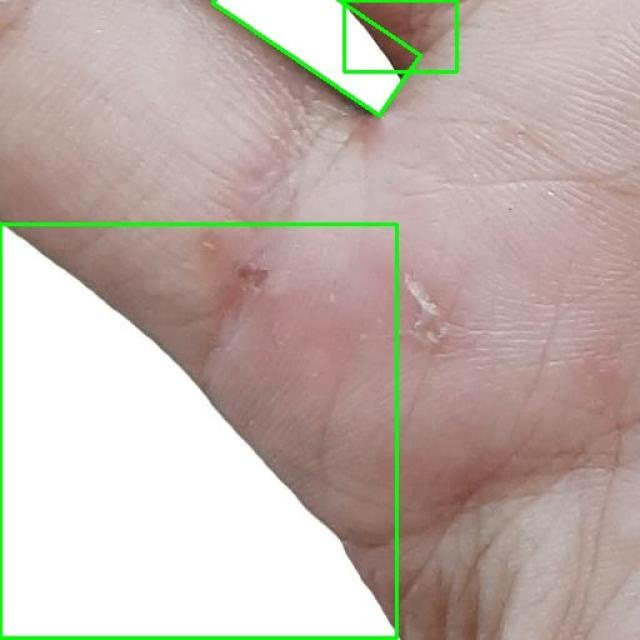Scabies: (0, 225, 398, 639), (213, 0, 421, 116), (344, 0, 456, 71)
